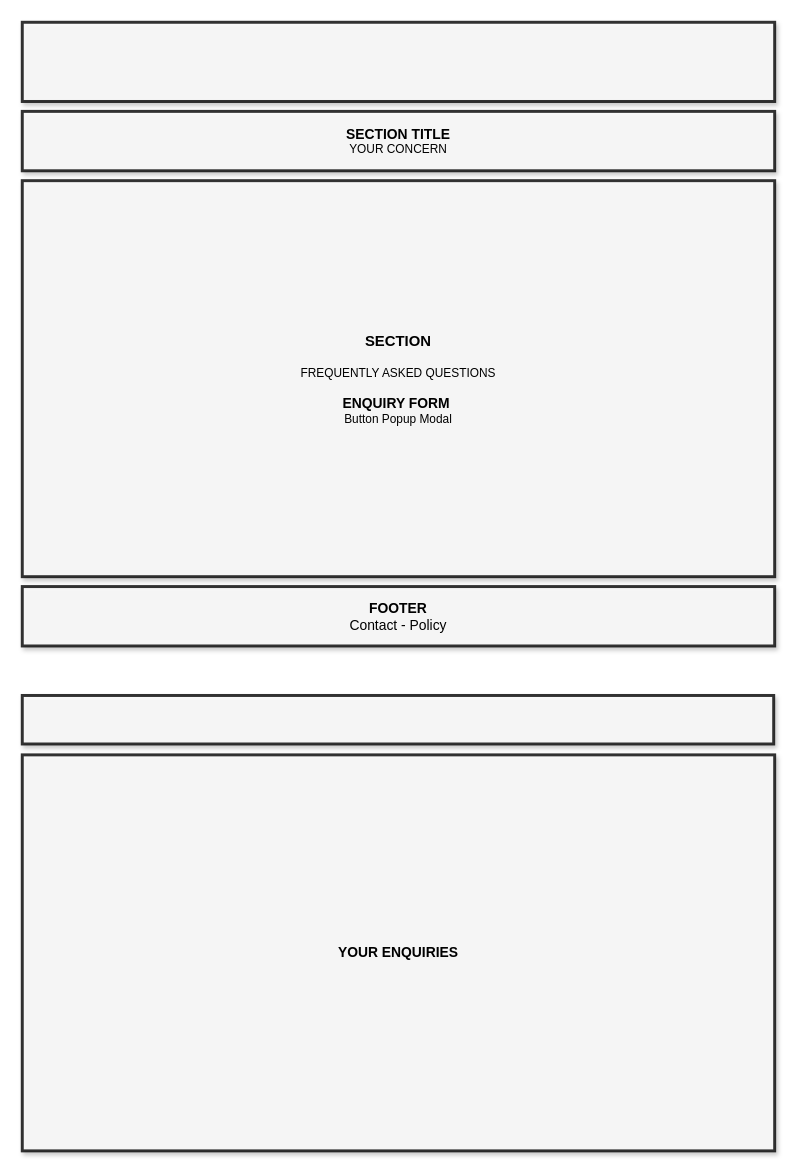
This 799x1176 diagram has some shape labels left out. Each missing label, with the centre of its shape:
"HEADER (LOGO & NAVIGATION LINKS)" goes at point (399, 62).
"MODAL (ENQUIRY FORM)" goes at point (398, 721).
